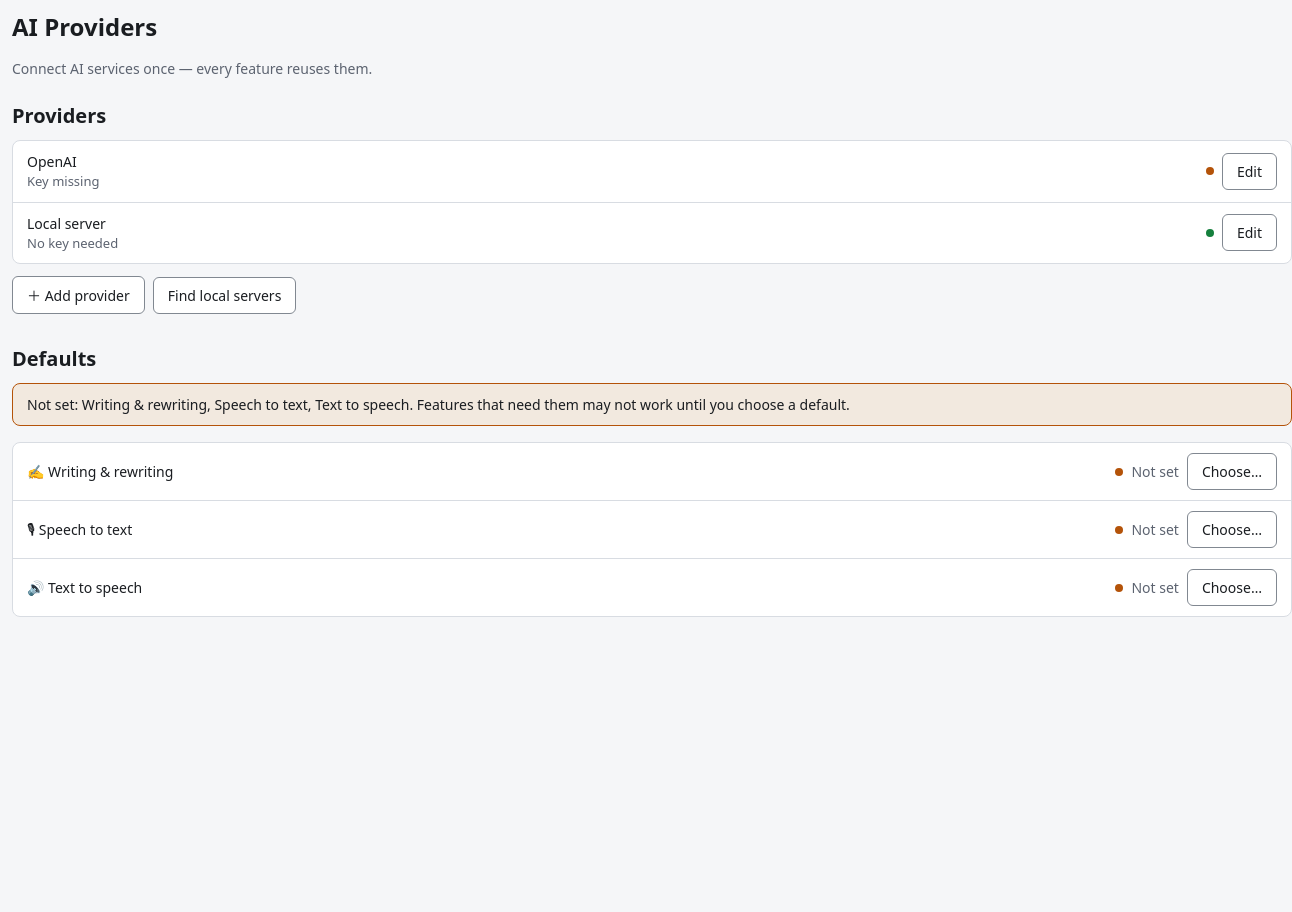
Test case: AiProvidersPage — adding a custom provider › surfaces a backend rejection and keeps the draft
Click the button "＋ Add provider" at (78, 295), box [12, 276, 145, 314]
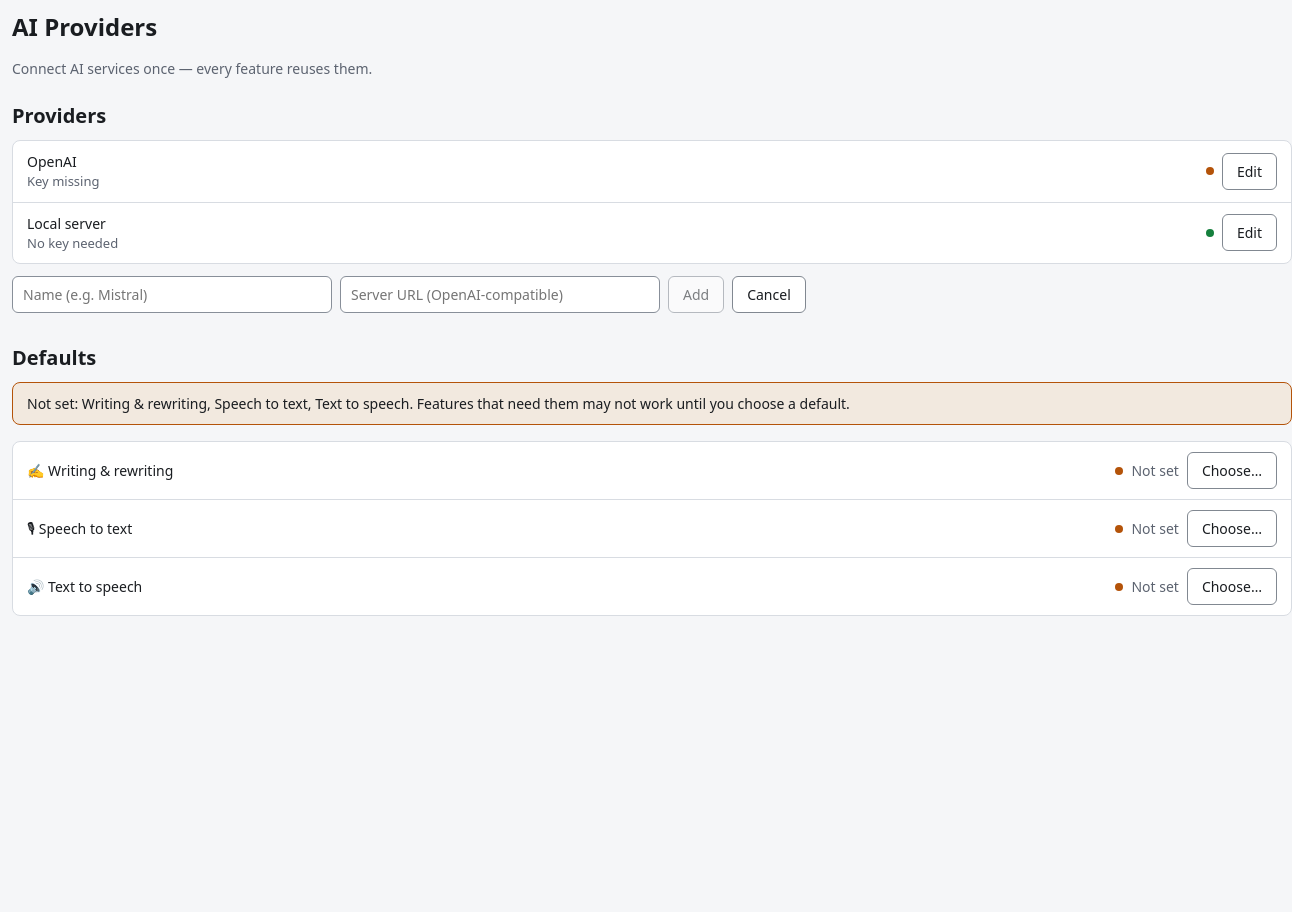
Type "Groq" into the field named "Provider name" at (172, 295), box [12, 276, 332, 313]
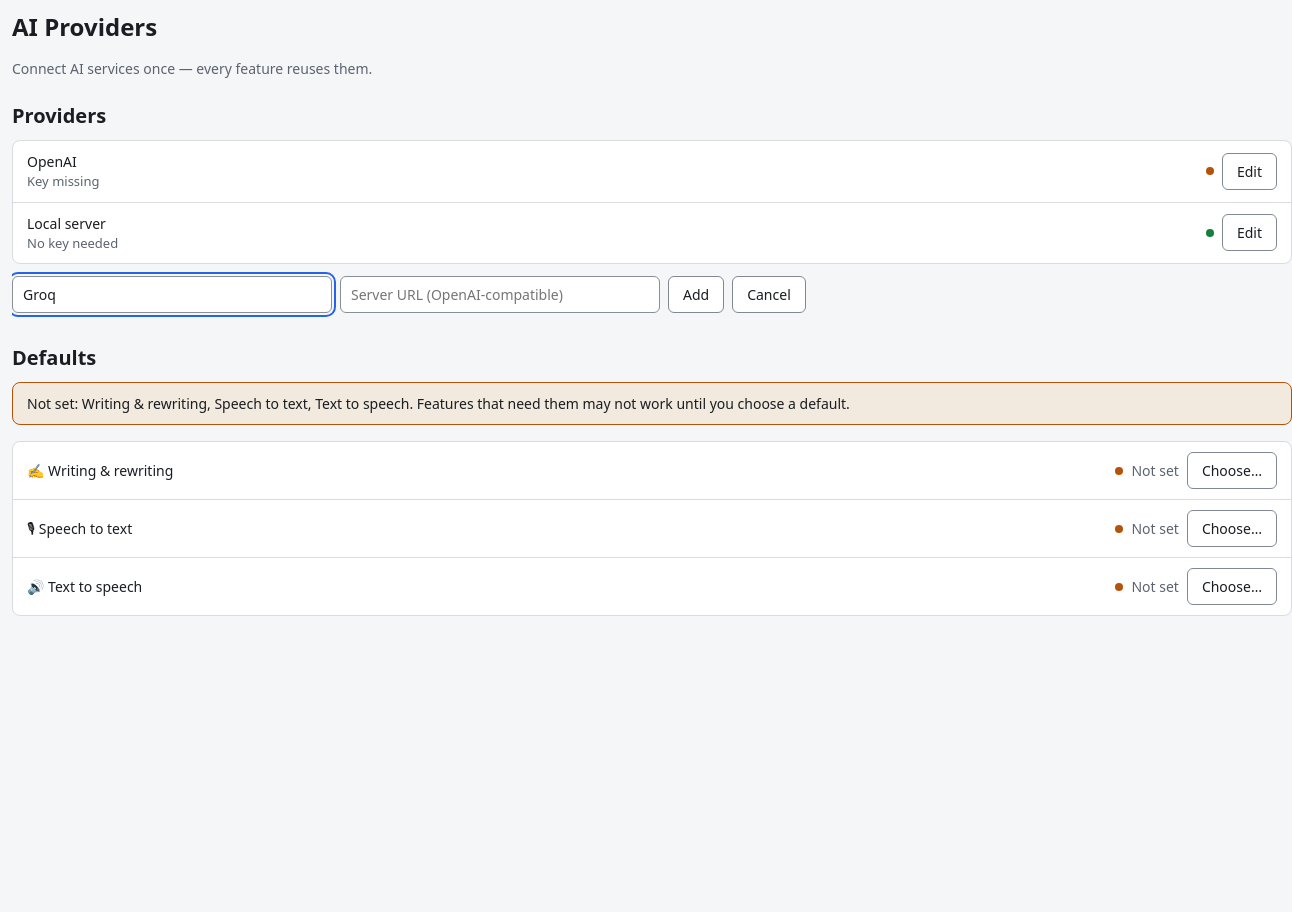
Click the button "Add" at (696, 295), box [668, 276, 724, 313]
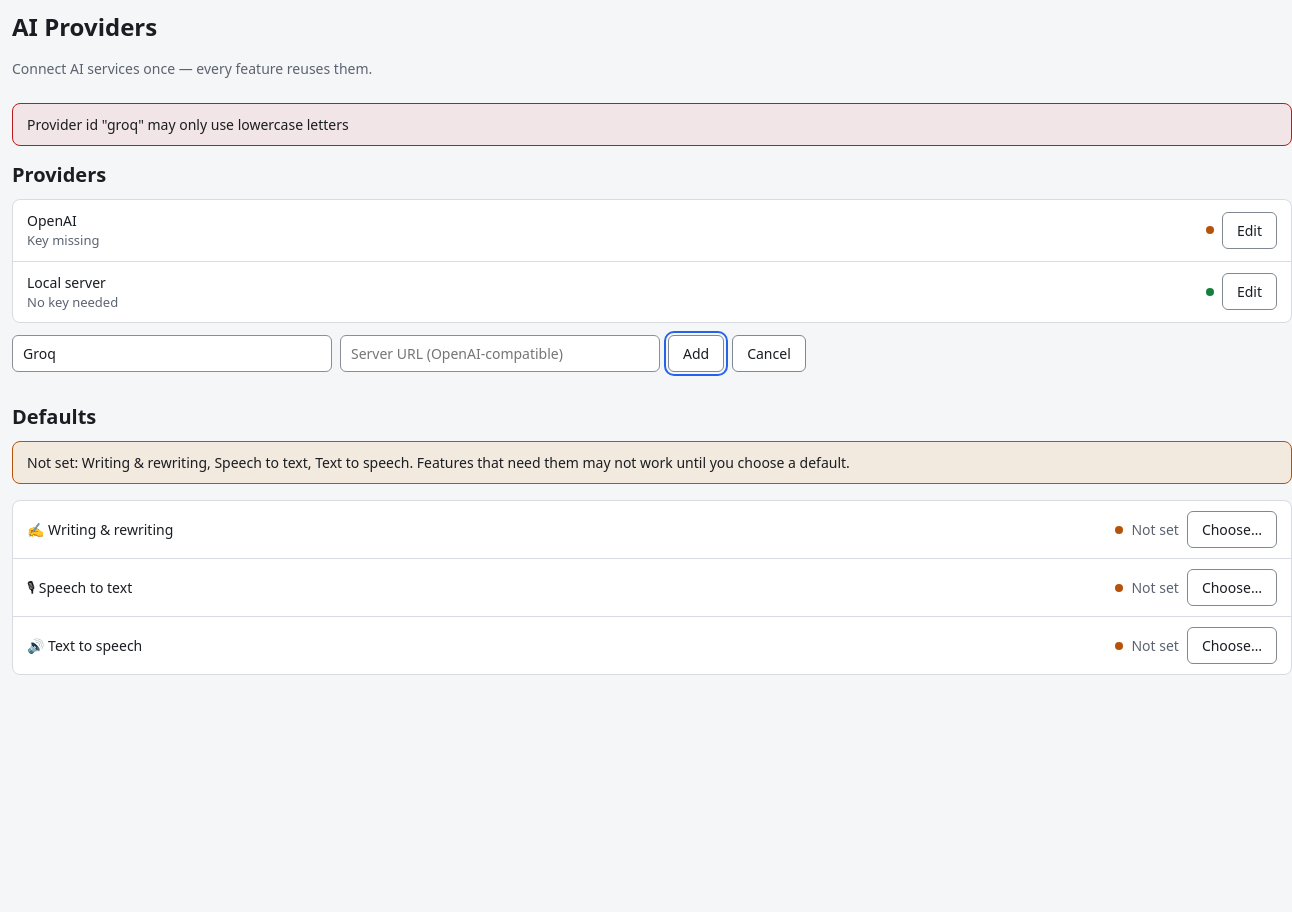
Expected: the text "Provider id \"groq\" may only use lowercase letters" is shown, [27, 115, 349, 134]
